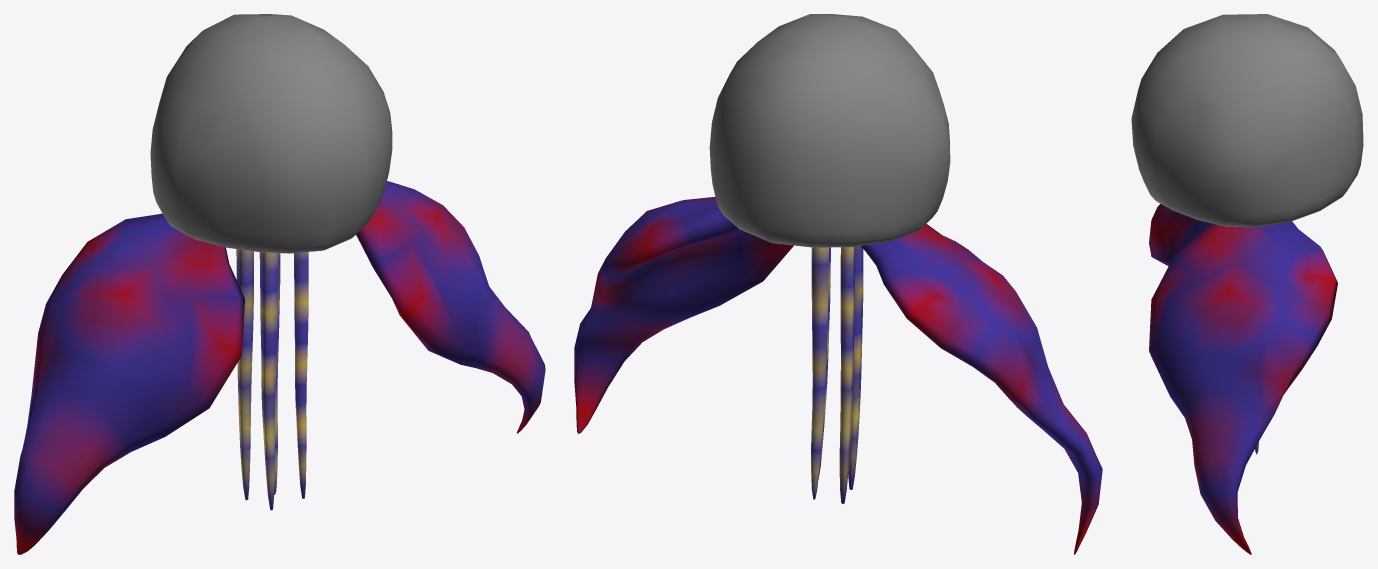
The model's file is méduse-color.fbx.
3 views of the same model, side by side, from view 1: azimuth 30°, elevation 25°; view 2: azimuth 150°, elevation 25°; view 3: azimuth 270°, elevation 25° (orthographic). The views are drawn at different scales.
Visible parts, largest first — view 1: arms, Head, Head1; view 2: Head, arms, Head1; view 3: Head, arms.
Boxes of the visible parts, x1,y1,x2,y2 form: arms: [14, 181, 545, 554]; Head: [150, 14, 392, 253]; Head1: [236, 249, 308, 510]; Head: [709, 14, 950, 247]; arms: [574, 197, 1102, 554]; Head1: [811, 246, 863, 503]; Head: [1131, 14, 1363, 227]; arms: [1149, 204, 1337, 554].
Bounding box in the file's own units: 4.63 × 3.97 × 1.96.
